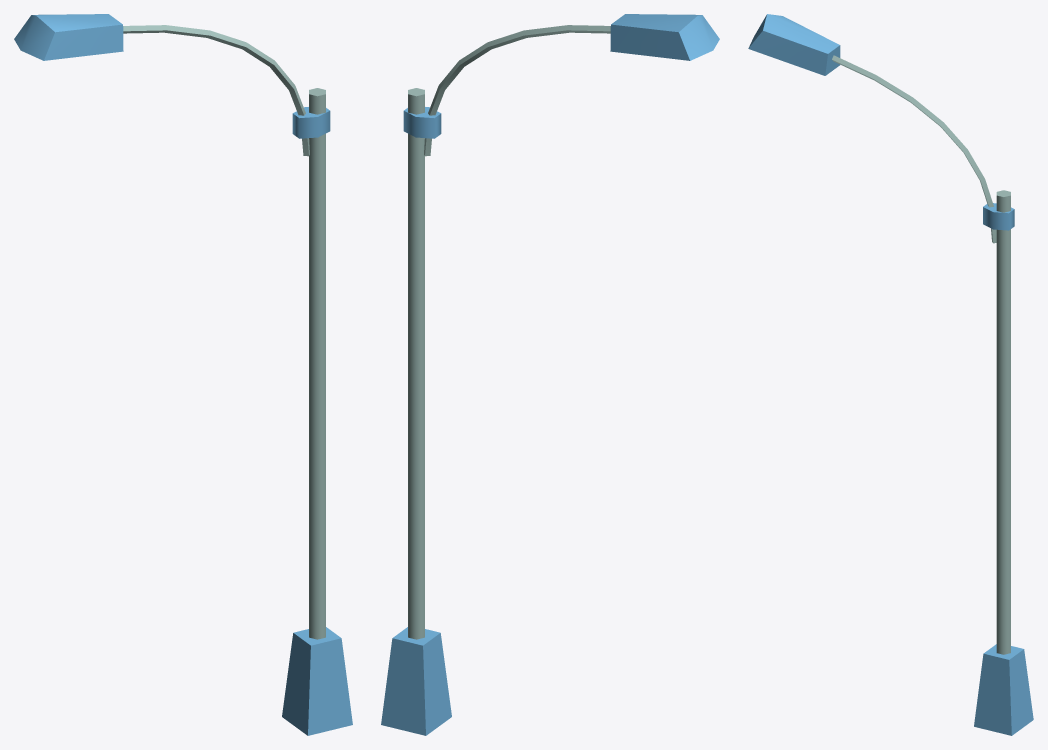
The model's file is Street_Lamp_01a.fbx.
3 renders of one model, left to right at view 1: azimuth 30°, elevation 25°; view 2: azimuth 150°, elevation 25°; view 3: azimuth 330°, elevation 25°, orthographic. The views are drawn at different scales.
Parts seen in each view (by area): view 1: Street_Lamp_01a; view 2: Street_Lamp_01a; view 3: Street_Lamp_01a.
Boxes of the visible parts, x1,y1,x2,y2 form: Street_Lamp_01a: (14, 14, 352, 735); Street_Lamp_01a: (381, 14, 719, 735); Street_Lamp_01a: (748, 14, 1033, 735).
Bounding box in the file's own units: 427 × 988 × 68.95.
